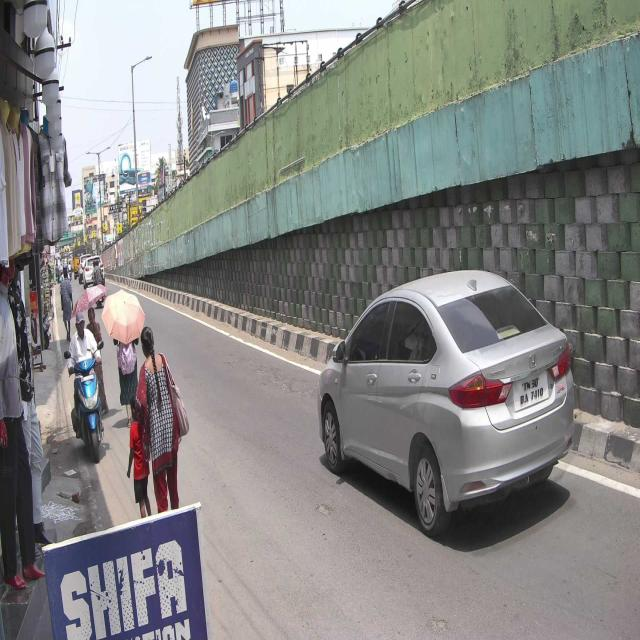single_rider: (65, 313, 107, 463)
